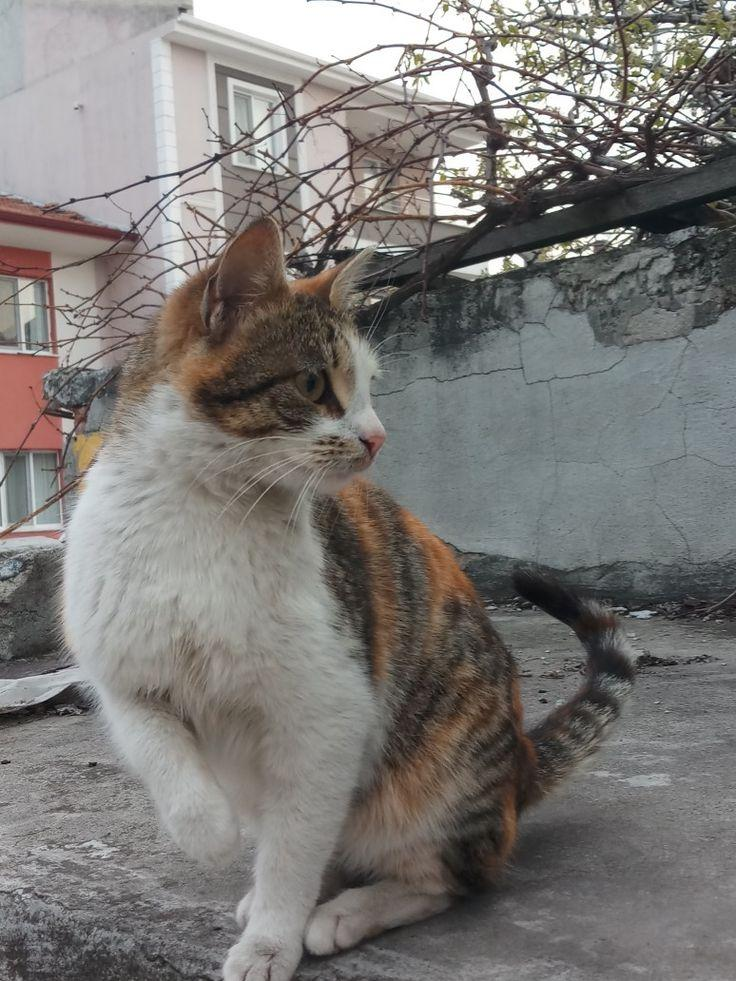kedo: (60, 214, 636, 981)
